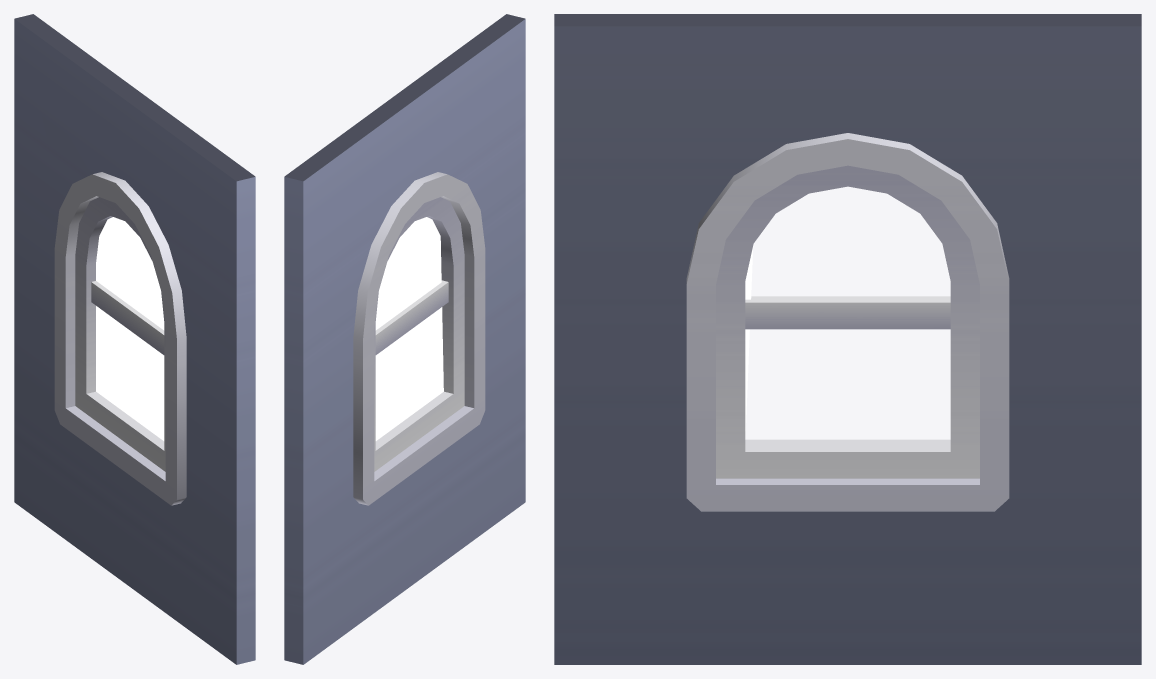
Rendered from Wall Window Round De.glb.
3 renders of one model, left to right at view 1: azimuth 30°, elevation 25°; view 2: azimuth 150°, elevation 25°; view 3: azimuth 270°, elevation 25°, orthographic. The views are drawn at different scales.
Visible parts, largest first — view 1: wall-window-round-detailed, (%ignore); view 2: wall-window-round-detailed, (%ignore); view 3: wall-window-round-detailed.
Part boxes in pixels (x1,y1,x2,y2): wall-window-round-detailed: [14, 14, 255, 664]; (%ignore): [96, 217, 164, 440]; wall-window-round-detailed: [284, 14, 525, 664]; (%ignore): [375, 217, 443, 440]; wall-window-round-detailed: [554, 14, 1141, 664].
Bounding box in the file's own units: 0.2 × 2.4 × 2.
Materials: 2 (1 with a texture image).
